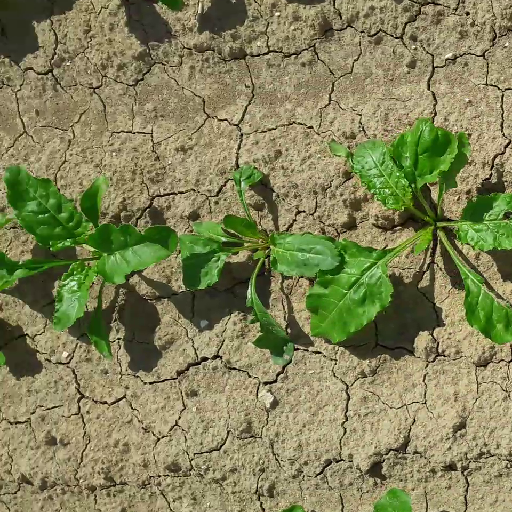sugarbeet: (300, 117, 512, 348), (173, 156, 344, 369), (1, 169, 179, 364)
